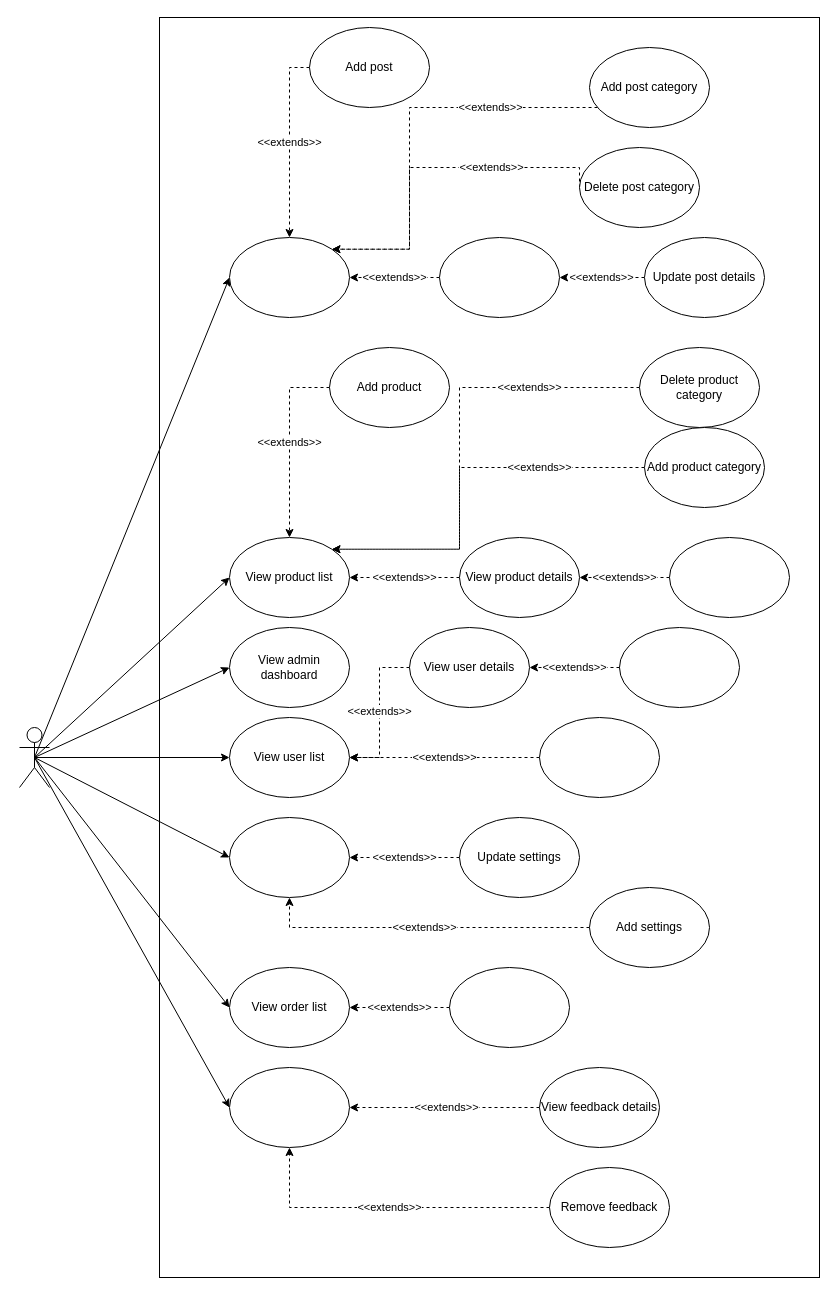
Some shapes in this 837 by 1295 pixel diagram are drawn without their labels. Each missing label, with the box of its shape:
Add user: (538, 716, 660, 798)
Admin: (18, 726, 50, 788)
Edit order status: (448, 966, 570, 1048)
Update product details: (668, 536, 790, 618)
Update user details: (618, 626, 740, 708)
View feedback list: (228, 1066, 350, 1148)
View post details: (438, 236, 560, 318)
View post list: (228, 236, 350, 318)
View settings list: (228, 816, 350, 898)
